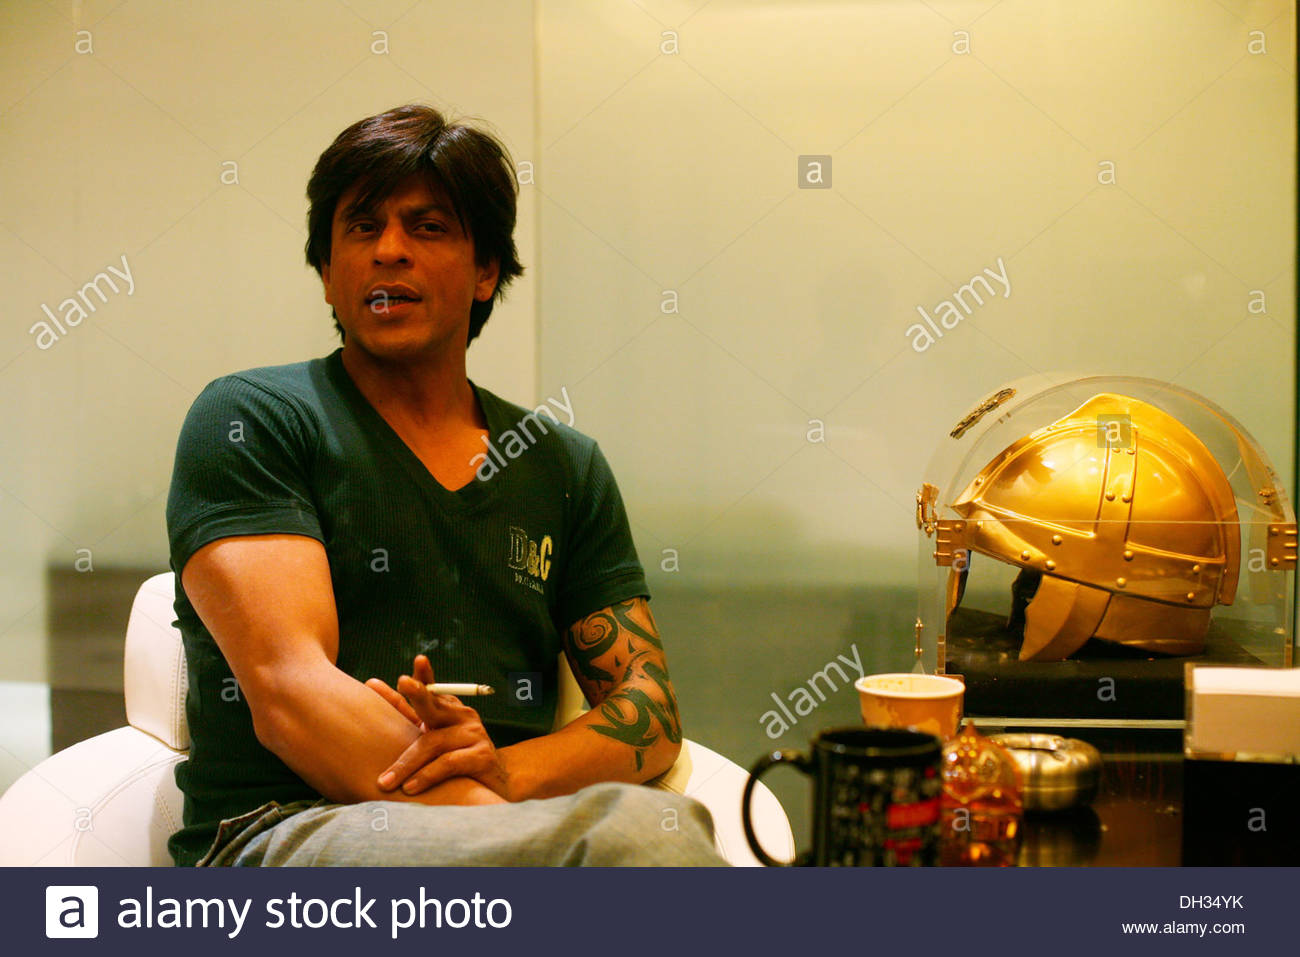cigarette: (417, 676, 500, 701)
